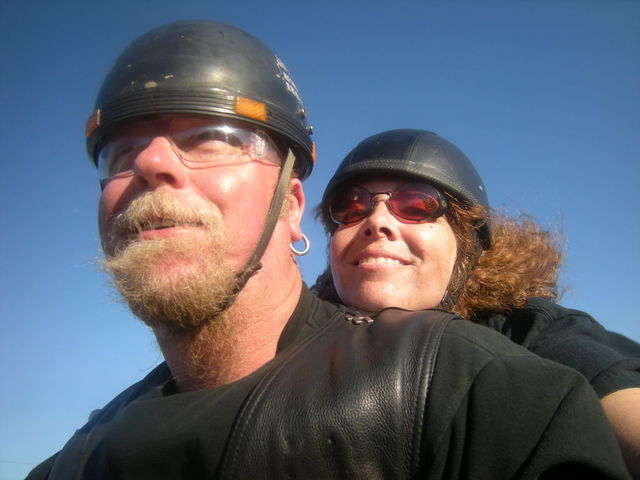helmet: (93, 26, 315, 155), (328, 138, 504, 222)
